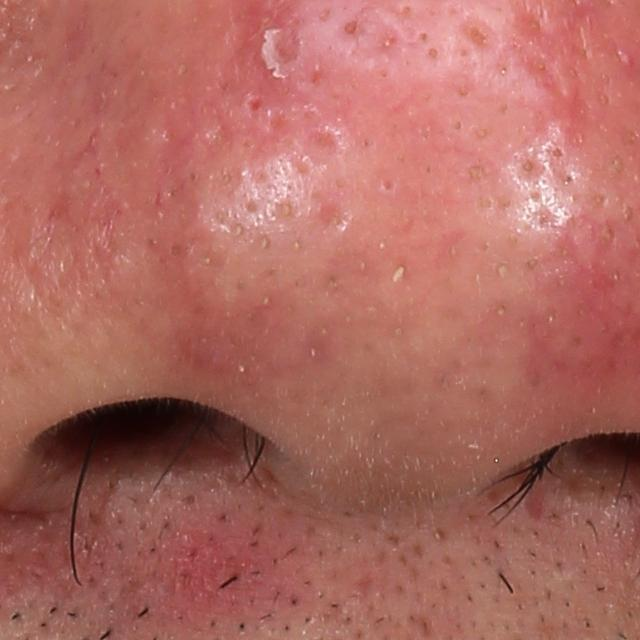comedo: (380, 177, 395, 195)
